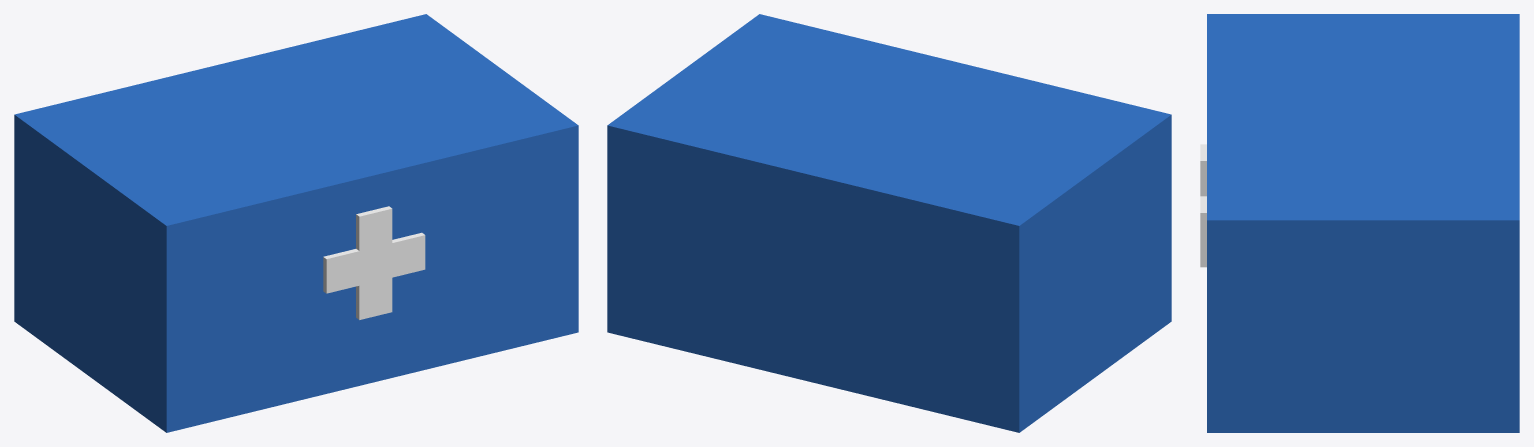
File: bandage_box.glb
The picture shows the model from 3 angles, left to right: view 1: azimuth 30°, elevation 25°; view 2: azimuth 150°, elevation 25°; view 3: azimuth 270°, elevation 25°; orthographic projection. The views are drawn at different scales.
Parts seen in each view (by area): view 1: bandage_box; view 2: bandage_box; view 3: bandage_box.
Part boxes in pixels (left/top/right/bottom): bandage_box: left=14, top=14, right=578, bottom=432; bandage_box: left=607, top=14, right=1171, bottom=432; bandage_box: left=1200, top=14, right=1519, bottom=432.
Size of the model in its own units: 0.25 by 0.12 by 0.1635.
